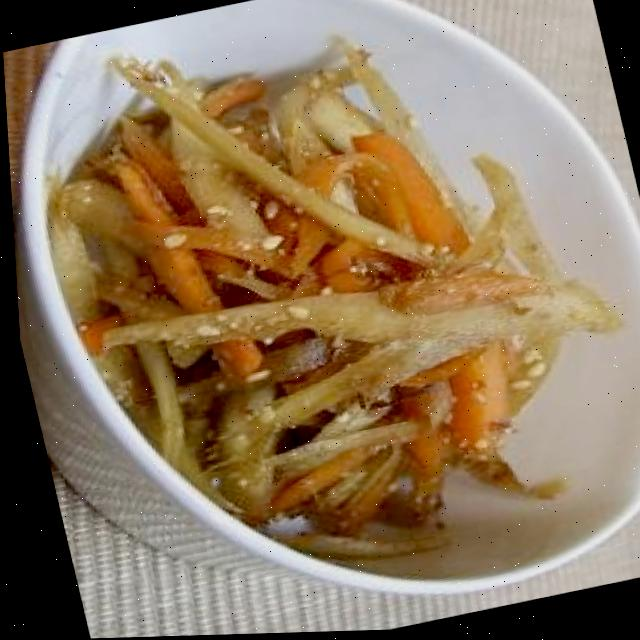蔬菜料理: (2, 0, 640, 620)
